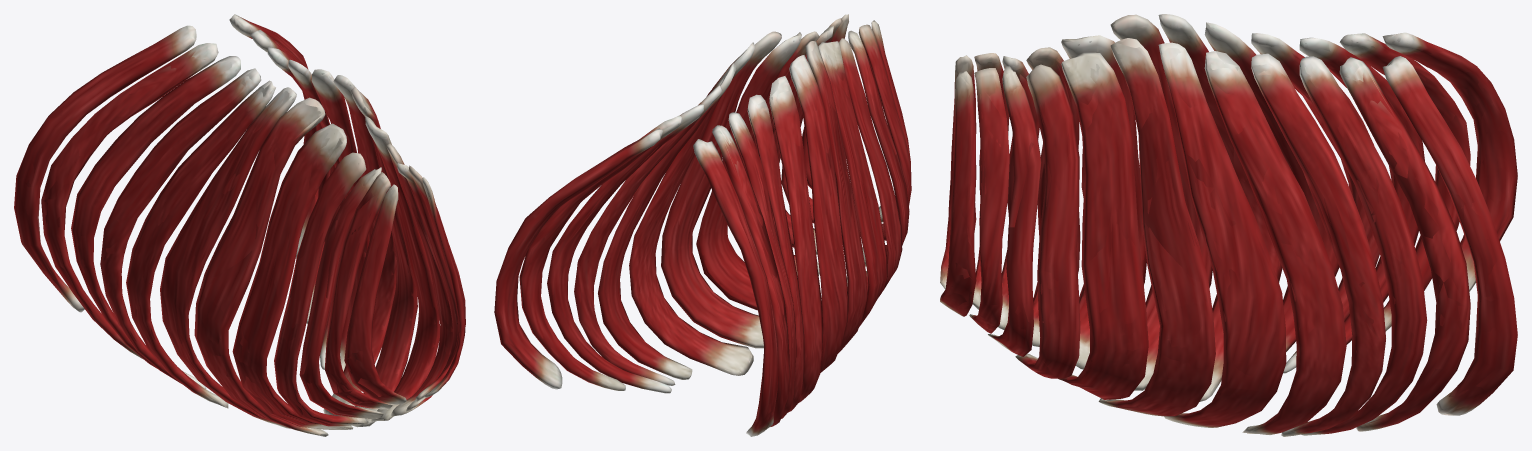
Rendered from Intercostales Externi.fbx.
3 views of the same model, side by side, from view 1: azimuth 30°, elevation 25°; view 2: azimuth 150°, elevation 25°; view 3: azimuth 270°, elevation 25° (orthographic). The views are drawn at different scales.
Visible parts, largest first — view 1: Intercostales Externi, Intercostales Externi low, Intercostales Externi high; view 2: Intercostales Externi, Intercostales Externi low, Intercostales Externi high; view 3: Intercostales Externi, Intercostales Externi low, Intercostales Externi high.
Part boxes in pixels (bbox=[...]): Intercostales Externi: bbox=[14, 14, 465, 436]; Intercostales Externi low: bbox=[15, 14, 464, 436]; Intercostales Externi high: bbox=[24, 19, 463, 435]; Intercostales Externi: bbox=[494, 14, 911, 436]; Intercostales Externi low: bbox=[495, 14, 911, 434]; Intercostales Externi high: bbox=[499, 21, 910, 434]; Intercostales Externi: bbox=[940, 14, 1517, 436]; Intercostales Externi low: bbox=[940, 15, 1516, 435]; Intercostales Externi high: bbox=[942, 19, 1513, 434].
Bounding box in the file's own units: 7.94 × 8.92 × 12.06.
1 material, 1 textured.
